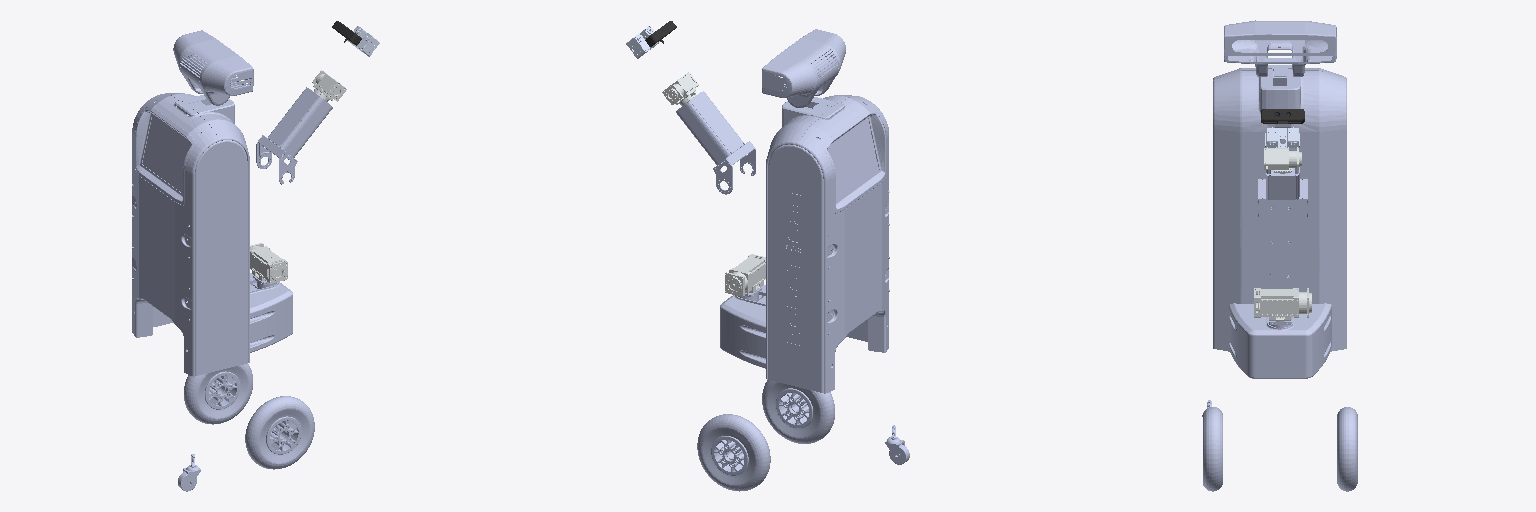
The robot description file, URDF, robot "armadillo2_robot":
<?xml version="1.0"?>

<robot xmlns:xacro="http://www.ros.org/wiki/xacro" name="armadillo2_robot" description="ARMadillo Robot">

<!-- <xacro:property name="3.1415926535897931" value="3.1415926535897931" />-->


<link name="base_footprint"/>
  
 <joint name="base_footprint_joint" type="fixed">
    <parent link="base_footprint"/>
    <child link="base_link"/>
    <origin xyz="0.00 0.00 0.1" rpy="0.0 0.0 0.0"/>
  </joint> 

  <link
    name="base_link">
    <inertial>
      <origin
        xyz="-0.012353 0.000122 0.17716"
        rpy="0 0 0" />
      <mass
        value="50.6774" />
      <inertia
        ixx="50.61071"
        ixy="2.5604E-05"
        ixz="-0.080403"
        iyy="0.58359"
        iyz="-0.00032953"
        izz="0.35309" />
    </inertial>
    <visual>
      <origin
        xyz="0 0 0"
        rpy="0 0 0" />
      <geometry>
        <mesh
          filename="package://armadillo2_description/mesh/base_link.STL" />
      </geometry>
      <material
        name="">
        <color
          rgba="0.79216 0.81961 0.93333 1" />
      </material>
    </visual>
 <collision name='base_collision'>
       <origin
        xyz="0 0 0"
        rpy="0 0 0" />
      <geometry>
        <mesh
          filename="package://armadillo2_description/mesh/base_link.STL" />
      </geometry>
          </collision>

      <collision name='caster_collision'>
      <origin
        xyz="-0.3 0 -0.0385"
        rpy="0 0 0" />
            <geometry>
              <sphere radius="0.05"/>
            </geometry>
            <surface>
              <friction>
                <ode>
                  <mu>0</mu>
                  <mu2>0</mu2>
                  <slip1>1.0</slip1>
                  <slip2>1.0</slip2>
                </ode>
              </friction>
            </surface>
          </collision>
  </link>
  <link
    name="laser_link" />
  <joint
    name="laser_joint"
    type="fixed">
    <origin
      xyz="0.20337 0 0.143"
      rpy="0 0 0" />
    <parent
      link="base_link" />
    <child
      link="laser_link" />
    <axis
      xyz="0 0 0" />
  </joint>
  <link
    name="front_urf_link" />
  <joint
    name="front_urf_joint"
    type="fixed">
    <origin
      xyz="0.24229 0.00011161 0.068509"
      rpy="0 0 0" />
    <parent
      link="base_link" />
    <child
      link="front_urf_link" />
    <axis
      xyz="0 0 0" />
  </joint>

 <link
    name="left_wheel_link">
    <inertial>
      <origin
        xyz="9.16610941069373E-06 4.59070539915452E-09 8.0609835912647E-06"
        rpy="0 0 0" />
      <mass
        value="1.19468304707429" />
      <inertia
        ixx="0.00339394020641508"
        ixy="-1.7040091442662E-11"
        ixz="-3.19286008554441E-07"
        iyy="0.00640943262315833"
        iyz="-1.56330189682853E-11"
        izz="0.00339385794108548" />
    </inertial>
    <visual>
      <origin
        xyz="0 0 0"
        rpy="0 0 0" />
      <geometry>
        <mesh
          filename="package://armadillo2_description/mesh/left_wheel_link.STL" />
      </geometry>
      <material
        name="">
        <color
          rgba="0.792156862745098 0.819607843137255 0.933333333333333 1" />
      </material>
    </visual>
    <collision>
      <origin
        xyz="0 0 0"
        rpy="1.5707963267949 0 0" />
      <geometry>
      <cylinder  length="0.04" radius="0.1"/> 
      </geometry>
    </collision>
  </link>


  <joint
    name="left_wheel_joint"
    type="continuous">
    <origin
      xyz="0.063115 0.16085 0.0115"
      rpy="0 0 0" />
    <parent
      link="base_link" />
    <child
      link="left_wheel_link" />
    <axis
      xyz="0 1 0" />
  </joint>

 <link
    name="right_wheel_link">
    <inertial>
      <origin
        xyz="9.16610941069373E-06 -4.99540929455033E-06 8.06098359126817E-06"
        rpy="0 0 0" />
      <mass
        value="1.19468304707429" />
      <inertia
        ixx="0.00339394020641508"
        ixy="-1.70400914487861E-11"
        ixz="-3.19286008554438E-07"
        iyy="0.00640943262315833"
        iyz="-1.5633018951093E-11"
        izz="0.00339385794108548" />
    </inertial>
    <visual>
      <origin
        xyz="0 0 0"
        rpy="0 0 0" />
      <geometry>
        <mesh
          filename="package://armadillo2_description/mesh/right_wheel_link.STL" />
      </geometry>
      <material
        name="">
        <color
          rgba="0.792156862745098 0.819607843137255 0.933333333333333 1" />
      </material>
    </visual>
   <collision>
      <origin
        xyz="0 0 0"
        rpy="1.5707963267949 0 0" />
      <geometry>
      <cylinder  length="0.04" radius="0.1"/> 
      </geometry>
    </collision>
  </link>

  <joint
    name="right_wheel_joint"
    type="continuous">
    <origin
      xyz="0.063115 -0.16085 0.0115"
      rpy="0 0 0" />
    <parent
      link="base_link" />
    <child
      link="right_wheel_link" />
    <axis
      xyz="0 1 0" />
  </joint>

 <link
    name="caster_left_link">
    <inertial>
      <origin
        xyz="0.00421271931699432 -3.85330403696038E-08 0.0101595051394297"
        rpy="0 0 0" />
      <mass
        value="0.0496415739447828" />
      <inertia
        ixx="2.21176053576914E-05"
        ixy="-1.28190365189921E-11"
        ixz="5.51496344859667E-06"
        iyy="2.871220501461E-05"
        iyz="-3.35442196159029E-11"
        izz="1.10273416039652E-05" />
    </inertial>
    <visual>
      <origin
        xyz="0 0 0"
        rpy="0 0 0" />
      <geometry>
        <mesh
          filename="package://armadillo2_description/mesh/caster_left_link.STL" />
      </geometry>
      <material
        name="">
        <color
          rgba="0.792156862745098 0.819607843137255 0.933333333333333 1" />
      </material>
    </visual>
   
  </link>
  <joint
    name="caster_left_joint"
    type="fixed">
    <origin
      xyz="-0.221558374889189 0.168999999975415 -0.0596832588142329"
      rpy="0 0 0" />
    <parent
      link="base_link" />
    <child
      link="caster_left_link" />
    <axis
      xyz="0 0 0" />
  </joint>
  <link
    name="caster_right_link">
    <inertial>
      <origin
        xyz="0.00421271931699441 -3.85330403973594E-08 0.0101595051394299"
        rpy="0 0 0" />
      <mass
        value="0.049641573944783" />
      <inertia
        ixx="2.21176053576918E-05"
        ixy="-1.28190365160225E-11"
        ixz="5.5149634485968E-06"
        iyy="2.87122050146104E-05"
        iyz="-3.35442196090477E-11"
        izz="1.10273416039652E-05" />
    </inertial>
    <visual>
      <origin
        xyz="0 0 0"
        rpy="0 0 0" />
      <geometry>
        <mesh
          filename="package://armadillo2_description/mesh/caster_right_link.STL" />
      </geometry>
      <material
        name="">
        <color
          rgba="0.792156862745098 0.819607843137255 0.933333333333333 1" />
      </material>
    </visual>
   
  </link>
  <joint
    name="caster_right_joint"
    type="fixed">
    <origin
      xyz="-0.221558374889189 -0.168999999975416 -0.0596832588142329"
      rpy="0 0 0" />
    <parent
      link="base_link" />
    <child
      link="caster_right_link" />
    <axis
      xyz="0 0 0" />
  </joint>

  <link
    name="torso_link">
    <inertial>
      <origin
        xyz="-0.059733 -0.00037419 0.54938"
        rpy="0 0 0" />
      <mass
        value="4.9226" />
      <inertia
        ixx="0.27696"
        ixy="0.00010279"
        ixz="-0.051125"
        iyy="0.28305"
        iyz="-5.4525E-06"
        izz="0.10934" />
    </inertial>
    <visual>
      <origin
        xyz="0 0 0"
        rpy="0 0 0" />
      <geometry>
        <mesh
          filename="package://armadillo2_description/mesh/torso_link.STL" />
      </geometry>
      <material
        name="">
        <color
          rgba="0.79216 0.81961 0.93333 1" />
      </material>
    </visual>
    <collision>
      <origin
        xyz="0 0 0"
        rpy="0 0 0" />
      <geometry>
        <mesh
          filename="package://armadillo2_description/mesh/torso_link.STL" />
      </geometry>
    </collision>
  </link>
  <joint
    name="torso_joint"
    type="prismatic">
    <origin
      xyz="0 0 0"
      rpy="0 0 0" />
    <parent
      link="base_link" />
    <child
      link="torso_link" />
    <axis
      xyz="0 0 1" />
    <limit
      lower="0.0"
      upper="0.5"
      effort="10.0"
      velocity="0.1" />
  </joint>
  <link
    name="head_pan_link">
    <inertial>
      <origin
        xyz="0.0044497 -0.00020474 0.02363"
        rpy="0 0 0" />
      <mass
        value="0.038976" />
      <inertia
        ixx="2.9551E-05"
        ixy="-5.6247E-08"
        ixz="-4.9478E-06"
        iyy="3.8612E-05"
        iyz="1.0057E-09"
        izz="4.123E-05" />
    </inertial>
    <visual>
      <origin
        xyz="0 0 0"
        rpy="0 0 0" />
      <geometry>
        <mesh
          filename="package://armadillo2_description/mesh/head_pan_link.STL" />
      </geometry>
      <material
        name="">
        <color
          rgba="0.79216 0.81961 0.93333 1" />
      </material>
    </visual>
    <collision>
      <origin
        xyz="0 0 0"
        rpy="0 0 0" />
      <geometry>
        <mesh
          filename="package://armadillo2_description/mesh/head_pan_link.STL" />
      </geometry>
    </collision>
  </link>
  <joint
    name="head_pan_joint"
    type="revolute">
    <origin
      xyz="-0.055768 0 0.932"
      rpy="0 0 0" />
    <parent
      link="torso_link" />
    <child
      link="head_pan_link" />
    <axis
      xyz="0 0 1" />
    <limit
      upper="1.0471975511966"
      lower="-1.0471975511966"
      effort="3.1"
      velocity="7.016223585" /> 
  </joint>
  <link
    name="head_tilt_link">
    <inertial>
      <origin
        xyz="0.014321 0.00038338 0.064622"
        rpy="0 0 0" />
      <mass
        value="1.0412" />
      <inertia
        ixx="0.0059274"
        ixy="-2.0169E-05"
        ixz="2.5508E-05"
        iyy="0.0012759"
        iyz="1.129E-07"
        izz="0.0061424" />
    </inertial>
    <visual>
      <origin
        xyz="0 0 0"
        rpy="0 0 0" />
      <geometry>
        <mesh
          filename="package://armadillo2_description/mesh/head_tilt_link.STL" />
      </geometry>
      <material
        name="">
        <color
          rgba="0.79216 0.81961 0.93333 1" />
      </material>
    </visual>
    <collision>
      <origin
        xyz="0 0 0"
        rpy="0 0 0" />
      <geometry>
        <mesh
          filename="package://armadillo2_description/mesh/head_tilt_link.STL" />
      </geometry>
    </collision>
  </link>
  <joint
    name="head_tilt_joint"
    type="revolute">
    <origin
      xyz="0 0 0.041"
      rpy="0 0 0" />
    <parent
      link="head_pan_link" />
    <child
      link="head_tilt_link" />
    <axis
      xyz="0 1 0" />
    <limit
    upper="1.0471975511966"
	  lower="-0.5235987755983"
      effort="3.1"
      velocity="7.016223585" /> 
  </joint>
  <link
    name="kineckt_link" />
  <joint
    name="kineckt_joint"
    type="fixed">
    <origin
      xyz="0.053 0.0073569 0.070961"
      rpy="0 0 0" />
    <parent
      link="head_tilt_link" />
    <child
      link="kineckt_link" />
    <axis
      xyz="0 0 0" />
  </joint>
  <link
    name="rotation1_link">
    <inertial>
      <origin
        xyz="-3.5316E-10 0.0073117 0.032399"
        rpy="0 0 0" />
      <mass
        value="0.035317" />
      <inertia
        ixx="0.00055596"
        ixy="9.2522E-12"
        ixz="9.2226E-12"
        iyy="0.00016945"
        iyz="6.1918E-06"
        izz="0.00055286" />
    </inertial>
    <visual>
      <origin
        xyz="0 0 0"
        rpy="0 0 0" />
      <geometry>
        <mesh
          filename="package://armadillo2_description/mesh/rotation1_link.STL" />
      </geometry>
      <material
        name="">
        <color
          rgba="0.89804 0.91765 0.92941 1" />
      </material>
    </visual>
    <collision>
      <origin
        xyz="0 0 0"
        rpy="0 0 0" />
      <geometry>
        <mesh
          filename="package://armadillo2_description/mesh/rotation1_link.STL" />
      </geometry>
    </collision>
  </link>
  <joint
    name="rotation1_joint"
    type="revolute">
    <origin
      xyz="0.11617 0 0.3885"
      rpy="0 0 0" />
    <parent
      link="torso_link" />
    <child
      link="rotation1_link" />
    <axis
      xyz="0 0 1" />
       <limit
      effort="44.7"
      lower="-1.57"
      upper="1.57"
      velocity="2.0" /> <!--3.455751915-->
  </joint>
  <link
    name="shoulder1_link">
    <inertial>
      <origin
        xyz="0.01628 -0.03243 0.20044"
        rpy="0 0 0" />
      <mass
        value="0.052217" />
      <inertia
        ixx="0.0043595"
        ixy="-3.1405E-06"
        ixz="0.00053636"
        iyy="0.0041046"
        iyz="-5.2275E-05"
        izz="0.00081871" />
    </inertial>
    <visual>
      <origin
        xyz="0 0 0"
        rpy="0 0 0" />
      <geometry>
        <mesh
          filename="package://armadillo2_description/mesh/shoulder1_link.STL" />
      </geometry>
      <material
        name="">
        <color
          rgba="0.89804 0.91765 0.92941 1" />
      </material>
    </visual>
    <collision>
      <origin
        xyz="0 0 0"
        rpy="0 0 0" />
      <geometry>
        <mesh
          filename="package://armadillo2_description/mesh/shoulder1_link.STL" />
      </geometry>
    </collision>
  </link>
  <joint
    name="shoulder1_joint"
    type="revolute">
    <origin
      xyz="0 0.039 0.0335"
      rpy="0 0 0" />
    <parent
      link="rotation1_link" />
    <child
      link="shoulder1_link" />
    <axis
      xyz="0 1 0" />
    <limit
      effort="44.7"
      lower="-1.57"
      upper="1.95"
      velocity="2.0" /> <!--3.455751915-->
  </joint>
  <link
    name="shoulder2_link">
    <inertial>
      <origin
        xyz="0.068154 -0.020691 0.11032"
        rpy="0 0 0" />
      <mass
        value="0.047392" />
      <inertia
        ixx="0.00093237"
        ixy="-1.0052E-05"
        ixz="0.00048929"
        iyy="0.0012859"
        iyz="-1.3286E-05"
        izz="0.00091329" />
    </inertial>
    <visual>
      <origin
        xyz="0 0 0"
        rpy="0 0 0" />
      <geometry>
        <mesh
          filename="package://armadillo2_description/mesh/shoulder2_link.STL" />
      </geometry>
      <material
        name="">
        <color
          rgba="0.79216 0.81961 0.93333 1" />
      </material>
    </visual>
    <collision>
      <origin
        xyz="0 0 0"
        rpy="0 0 0" />
      <geometry>
        <mesh
          filename="package://armadillo2_description/mesh/shoulder2_link.STL" />
      </geometry>
    </collision>
  </link>
  <joint
    name="shoulder2_joint"
    type="revolute">
    <origin
      xyz="0.029998 -0.012 0.264"
      rpy="0 0 0" />
    <parent
      link="shoulder1_link" />
    <child
      link="shoulder2_link" />
    <axis
      xyz="0 1 0" />
    <limit
      effort="25.3"
      lower="-1.48"
      upper="2.3522"
      velocity="2.0" /> <!--3.455751915-->
  </joint>
  <link
    name="rotation2_link">
    <inertial>
      <origin
        xyz="5.0638E-06 -0.0012262 0.056857"
        rpy="0 0 0" />
      <mass
        value="0.01635" />
      <inertia
        ixx="0.00014092"
        ixy="1.0984E-09"
        ixz="1.6669E-08"
        iyy="8.0775E-05"
        iyz="-1.7606E-06"
        izz="0.00010647" />
    </inertial>
    <visual>
      <origin
        xyz="0 0 0"
        rpy="0 0 0" />
      <geometry>
        <mesh
          filename="package://armadillo2_description/mesh/rotation2_link.STL" />
      </geometry>
      <material
        name="">
        <color
          rgba="0.89804 0.91765 0.92941 1" />
      </material>
    </visual>
    <collision>
      <origin
        xyz="0 0 0"
        rpy="0 0 0" />
      <geometry>
        <mesh
          filename="package://armadillo2_description/mesh/rotation2_link.STL" />
      </geometry>
    </collision>
  </link>
  <joint
    name="rotation2_joint"
    type="revolute">
    <origin
      xyz="0.11667 -0.021 0.1591"
      rpy="1.3528E-11 0.7854 1.9131E-11" />
    <parent
      link="shoulder2_link" />
    <child
      link="rotation2_link" />
    <axis
      xyz="0 0 1" />
   <limit
      effort="25.3"
      lower="-1.57"
      upper="1.57"
      velocity="2.0" /> <!--3.455751915-->
  </joint>
  <link
    name="shoulder3_link">
    <inertial>
      <origin
        xyz="3.9875E-11 -0.044252 0.069689"
        rpy="0 0 0" />
      <mass
        value="0.015954" />
      <inertia
        ixx="0.00018198"
        ixy="2.1351E-13"
        ixz="-2.3815E-13"
        iyy="0.00015335"
        iyz="-5.6341E-06"
        izz="7.5641E-05" />
    </inertial>
    <visual>
      <origin
        xyz="0 0 0"
        rpy="0 0 0" />
      <geometry>
        <mesh
          filename="package://armadillo2_description/mesh/shoulder3_link.STL" />
      </geometry>
      <material
        name="">
        <color
          rgba="0.79216 0.81961 0.93333 1" />
      </material>
    </visual>
    <collision>
      <origin
        xyz="0 0 0"
        rpy="0 0 0" />
      <geometry>
        <mesh
          filename="package://armadillo2_description/mesh/shoulder3_link.STL" />
      </geometry>
    </collision>
  </link>
  <joint
    name="shoulder3_joint"
    type="revolute">
    <origin
      xyz="0 0.045 0.063"
      rpy="0 0 1.862E-16" />
    <parent
      link="rotation2_link" />
    <child
      link="shoulder3_link" />
    <axis
      xyz="0 1 0" />
    <limit
      effort="5.1"
      lower="-1.57"
      upper="1.57"
      velocity="2.0" /> <!--3.455751915-->
  </joint>
  <link
    name="wrist_link">
    <inertial>
      <origin
        xyz="-8.1889E-11 0.02077 -0.0027746"
        rpy="0 0 0" />
      <mass
        value="0.011365" />
      <inertia
        ixx="4.4099E-05"
        ixy="-1.2434E-13"
        ixz="-1.4422E-13"
        iyy="9.4421E-05"
        iyz="3.0209E-06"
        izz="0.00010114" />
    </inertial>
    <visual>
      <origin
        xyz="0 0 0"
        rpy="0 0 0" />
      <geometry>
        <mesh
          filename="package://armadillo2_description/mesh/wrist_link.STL" />
      </geometry>
      <material
        name="">
        <color
          rgba="0.86667 0.9098 1 1" />
      </material>
    </visual>
    <collision>
      <origin
        xyz="0 0 0"
        rpy="0 0 0" />
      <geometry>
        <mesh
          filename="package://armadillo2_description/mesh/wrist_link.STL" />
      </geometry>
    </collision>
  </link>
  <joint
    name="wrist_joint"
    type="revolute">
    <origin
      xyz="0 -0.045 0.123"
      rpy="1.5708 1.353E-11 1.5708" />
    <parent
      link="shoulder3_link" />
    <child
      link="wrist_link" />
    <axis
      xyz="0 1 0" />
 <limit
      effort="5.1"
      lower="-3.14"
      upper="3.14"
      velocity="2.0" /> <!--3.455751915-->
  </joint>

  <link name="gripper_link"/>

<joint name="gripper_joint" type="fixed">
    <origin xyz="0 0.06 0" rpy="3.1415926535897931 0 1.5707963267949"/>
    <parent link="wrist_link"/>
    <child link="gripper_link"/>
 </joint>


  <link
    name="left_finger_link">
    <inertial>
      <origin
        xyz="5.5511E-17 0.015598 0.034754"
        rpy="0 0 0" />
      <mass
        value="0.0017229" />
      <inertia
        ixx="1.4683E-05"
        ixy="-1.0482E-21"
        ixz="1.8423E-20"
        iyy="1.7304E-05"
        iyz="9.2811E-07"
        izz="4.5506E-06" />
    </inertial>
    <visual>
      <origin
        xyz="0 0 0"
        rpy="0 0 0" />
      <geometry>
        <mesh
          filename="package://armadillo2_description/mesh/left_finger_link.STL" />
      </geometry>
      <material
        name="">
        <color
          rgba="0.86667 0.9098 1 1" />
      </material>
    </visual>
    <collision>
      <origin
        xyz="0 0 0"
        rpy="0 0 0" />
      <geometry>
        <mesh
          filename="package://armadillo2_description/mesh/left_finger_link.STL" />
      </geometry>
    </collision>
  </link>
  <joint
    name="left_finger_joint"
    type="revolute">
    <origin
      xyz="0.025 0.03725 0"
      rpy="1.5708 -1.5708 3.1415926535897931" />
    <parent
      link="wrist_link" />
    <child
      link="left_finger_link" />
    <axis
      xyz="1 0 0" />
    <limit
      effort="3.1"
      lower="-1.57"
      upper="1.57"
      velocity="2.0" /> <!--7.016223585-->
  </joint>
  <link
    name="right_finger_link">
    <inertial>
      <origin
        xyz="-1.1102E-16 -0.015598 0.034754"
        rpy="0 0 0" />
      <mass
        value="0.0017229" />
      <inertia
        ixx="1.4683E-05"
        ixy="2.0869E-20"
        ixz="-3.5787E-20"
        iyy="1.7304E-05"
        iyz="-9.2811E-07"
        izz="4.5506E-06" />
    </inertial>
    <visual>
      <origin
        xyz="0 0 0"
        rpy="0 0 0" />
      <geometry>
        <mesh
          filename="package://armadillo2_description/mesh/right_finger_link.STL" />
      </geometry>
      <material
        name="">
        <color
          rgba="0.86667 0.9098 1 1" />
      </material>
    </visual>
    <collision>
      <origin
        xyz="0 0 0"
        rpy="0 0 0" />
      <geometry>
        <mesh
          filename="package://armadillo2_description/mesh/right_finger_link.STL" />
      </geometry>
    </collision>
  </link>
  <joint
    name="right_finger_joint"
    type="revolute">
    <origin
      xyz="-0.025 0.03725 0"
      rpy="1.5708 -1.5708 3.1415926535897931" />
    <parent
      link="wrist_link" />
    <child
      link="right_finger_link" />
    <axis
      xyz="1 0 0" />
  <limit
      effort="3.1"
      lower="-1.57"
      upper="1.57"
      velocity="2.0" /> <!--7.016223585-->
  </joint>
  <link
    name="softkinetic_link">
    <inertial>
      <origin
        xyz="-0.00023051 -1.5096E-05 -0.00085913"
        rpy="0 0 0" />
      <mass
        value="0.078763" />
      <inertia
        ixx="7.503E-05"
        ixy="-1.1534E-08"
        ixz="2.9297E-08"
        iyy="1.0654E-05"
        iyz="-1.0173E-09"
        izz="7.1732E-05" />
    </inertial>
    <visual>
      <origin
        xyz="0 0 0"
        rpy="0 0 0" />
      <geometry>
        <mesh
          filename="package://armadillo2_description/mesh/softkinetic_link.STL" />
      </geometry>
      <material
        name="">
        <color
          rgba="0.25098 0.25098 0.25098 1" />
      </material>
    </visual>
    <collision>
      <origin
        xyz="0 0 0"
        rpy="0 0 0" />
      <geometry>
        <mesh
          filename="package://armadillo2_description/mesh/softkinetic_link.STL" />
      </geometry>
    </collision>
  </link>
  <joint
    name="softkinetic_joint"
    type="fixed">
    <origin
      xyz="0 0.0143 -0.0598"
      rpy="-3.1416 6.1062E-16 1.5708" />
    <parent
      link="wrist_link" />
    <child
      link="softkinetic_link" />
    <axis
      xyz="0 0 0" />
  </joint>
  <link
    name="softkinetic_left_link" />
  <joint
    name="softkinetic_left_joint"
    type="fixed">
    <origin
      xyz="0.0083 0.0135 0"
      rpy="0 0 0" />
    <parent
      link="softkinetic_link" />
    <child
      link="softkinetic_left_link" />
    <axis
      xyz="0 0 0" />
  </joint>
  <link
    name="softkinetic_right_link" />
  <joint
    name="softkinetic_right_joint"
    type="fixed">
    <origin
      xyz="0.0083 -0.0135 0"
      rpy="-8.0779E-28 0 1.3535E-11" />
    <parent
      link="softkinetic_link" />
    <child
      link="softkinetic_right_link" />
    <axis
      xyz="0 0 0" />
  </joint>

</robot>

--- Render facts (derived) ---
3 views of the same robot in one strip: view 1: azimuth 30°, elevation 25°; view 2: azimuth 150°, elevation 25°; view 3: azimuth 270°, elevation 25° (orthographic).
Model armadillo2_robot with 24 links and 23 joints (10 revolute, 2 continuous, 1 prismatic, 10 fixed), rooted at base_footprint, posed all joints at 0.
Links seen in each view (by area): view 1: torso_link, right_wheel_link, head_tilt_link, left_wheel_link, shoulder2_link, rotation1_link, rotation2_link; view 2: torso_link, left_wheel_link, head_tilt_link, right_wheel_link, shoulder2_link, rotation1_link, rotation2_link; view 3: torso_link, head_tilt_link, left_wheel_link, rotation1_link, right_wheel_link, shoulder2_link, rotation2_link, wrist_link, softkinetic_link.
Link boxes in pixels (<box>): torso_link: <box>132,93,292,376</box>; right_wheel_link: <box>245,396,314,469</box>; head_tilt_link: <box>173,30,253,105</box>; left_wheel_link: <box>184,363,252,424</box>; shoulder2_link: <box>256,87,332,184</box>; rotation1_link: <box>250,243,287,283</box>; rotation2_link: <box>312,70,346,101</box>; torso_link: <box>720,95,889,393</box>; left_wheel_link: <box>697,414,770,491</box>; head_tilt_link: <box>762,29,845,107</box>; right_wheel_link: <box>762,380,834,443</box>; shoulder2_link: <box>676,91,755,194</box>; rotation1_link: <box>725,254,765,296</box>; rotation2_link: <box>662,72,698,105</box>; torso_link: <box>1213,65,1346,378</box>; head_tilt_link: <box>1224,20,1336,76</box>; left_wheel_link: <box>1337,407,1357,491</box>; rotation1_link: <box>1254,288,1311,320</box>; right_wheel_link: <box>1203,407,1222,491</box>; shoulder2_link: <box>1258,167,1307,217</box>; rotation2_link: <box>1264,148,1301,173</box>; wrist_link: <box>1265,124,1299,147</box>; softkinetic_link: <box>1261,109,1304,123</box>.
Size in the robot's own frame: 0.6874 by 0.3725 by 1.17 metres.
Meshes: 17 distinct files referenced, 10 mesh visuals loaded (10 binary STL); not drawn: 7 (reference not matched to a file when rendering).
